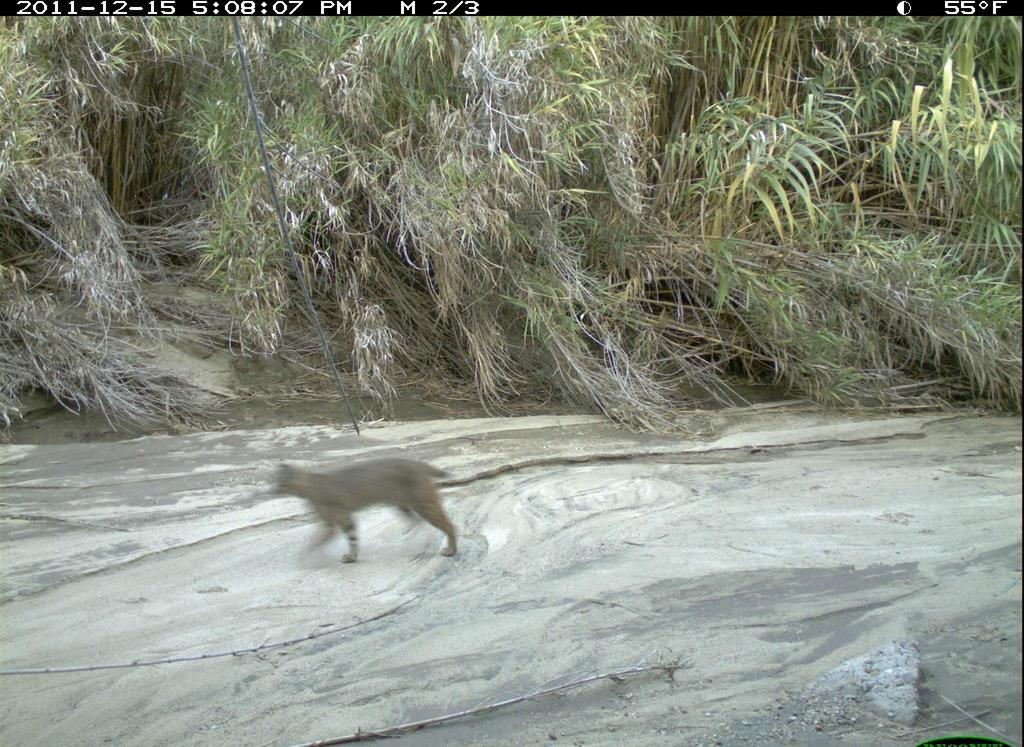bobcat: (258, 446, 466, 579)
